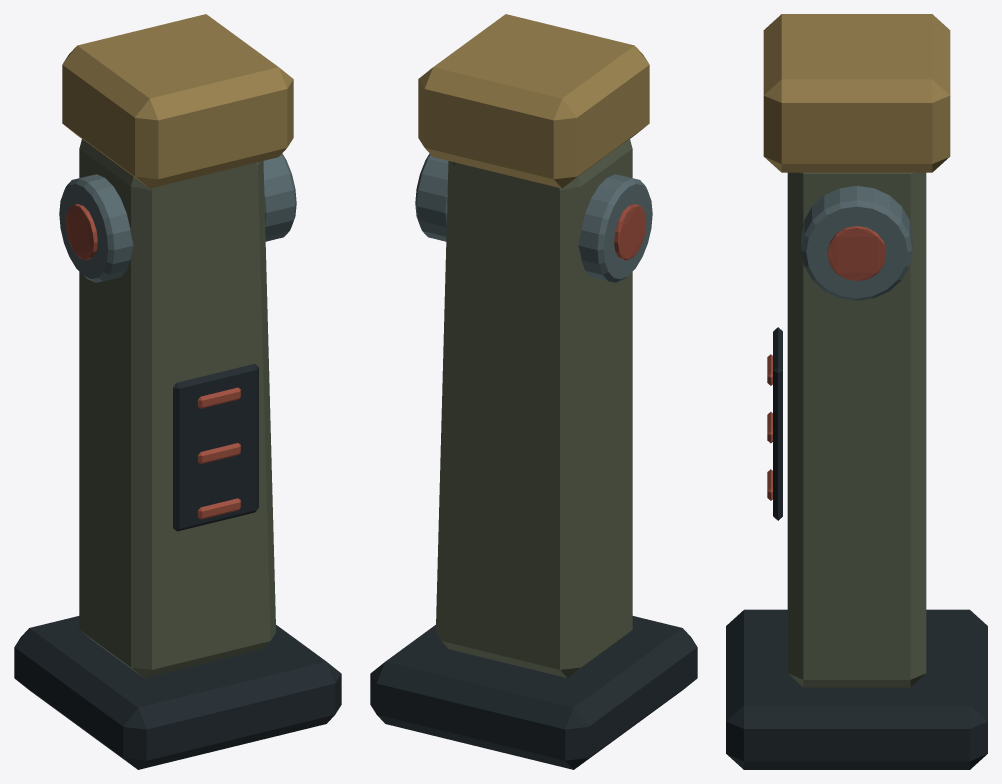
Rendered from LASER_FENCE_PYLON.lo.glb.
3 views of the same model, side by side, from view 1: azimuth 30°, elevation 25°; view 2: azimuth 150°, elevation 25°; view 3: azimuth 270°, elevation 25° (orthographic). The views are drawn at different scales.
Parts seen in each view (by area): view 1: Body_Mesh; view 2: Body_Mesh; view 3: Body_Mesh.
Boxes of the visible parts, left/top/right/bottom form: Body_Mesh: left=14, top=14, right=341, bottom=769; Body_Mesh: left=370, top=14, right=697, bottom=769; Body_Mesh: left=726, top=14, right=987, bottom=769.
Bounding box in the file's own units: 0.66 × 1.88 × 0.66.
